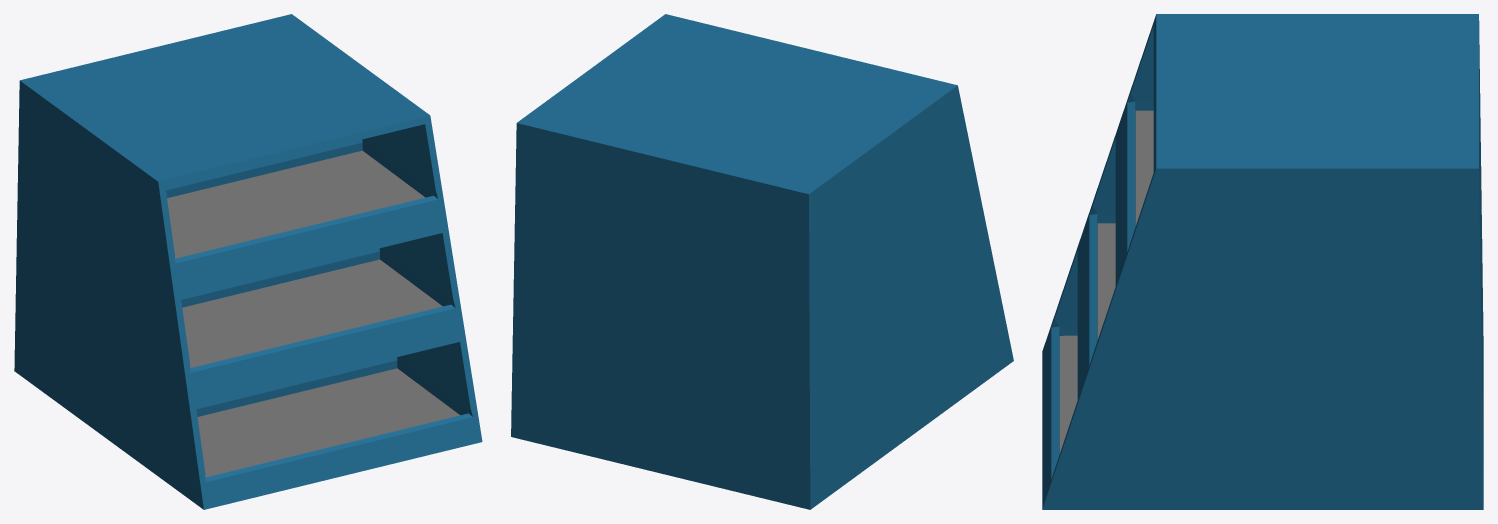
Rendered from Counter Rack #1.fbx.
3 views of the same model, side by side, from view 1: azimuth 30°, elevation 25°; view 2: azimuth 150°, elevation 25°; view 3: azimuth 270°, elevation 25° (orthographic). The views are drawn at different scales.
Parts seen in each view (by area): view 1: Counter Rack #1; view 2: Counter Rack #1; view 3: Counter Rack #1.
Boxes of the visible parts, x1,y1,x2,y2 form: Counter Rack #1: [14, 14, 482, 509]; Counter Rack #1: [511, 14, 1013, 509]; Counter Rack #1: [1042, 14, 1483, 509].
Bounding box in the file's own units: 39.25 × 39.25 × 46.25.
1 material, 1 textured.
